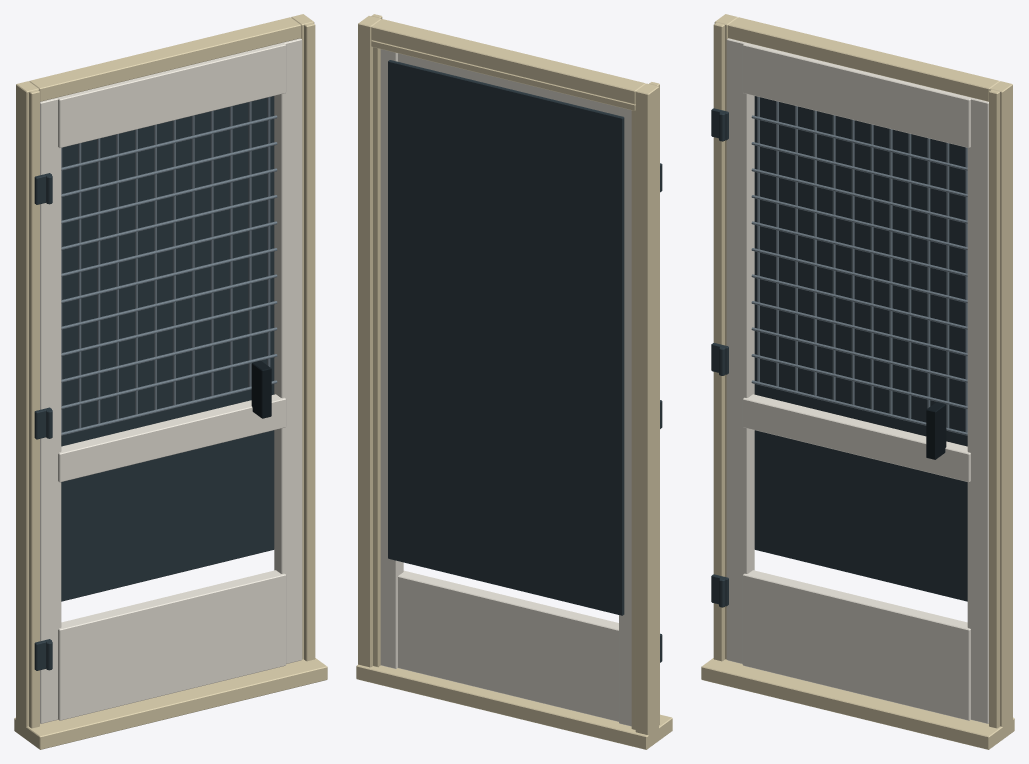
Rendered from b12_screen_storm_door.glb.
The picture shows the model from 3 angles, left to right: view 1: azimuth 30°, elevation 25°; view 2: azimuth 150°, elevation 25°; view 3: azimuth 330°, elevation 25°; orthographic projection.
Parts seen in each view (by area): view 1: b12_screen_storm_door; view 2: b12_screen_storm_door; view 3: b12_screen_storm_door.
Part boxes in pixels (left/top/right/bottom): b12_screen_storm_door: left=14, top=14, right=327, bottom=749; b12_screen_storm_door: left=356, top=14, right=672, bottom=749; b12_screen_storm_door: left=701, top=14, right=1014, bottom=749.
Size of the model in its own units: 0.99 by 2.13 by 0.155.
